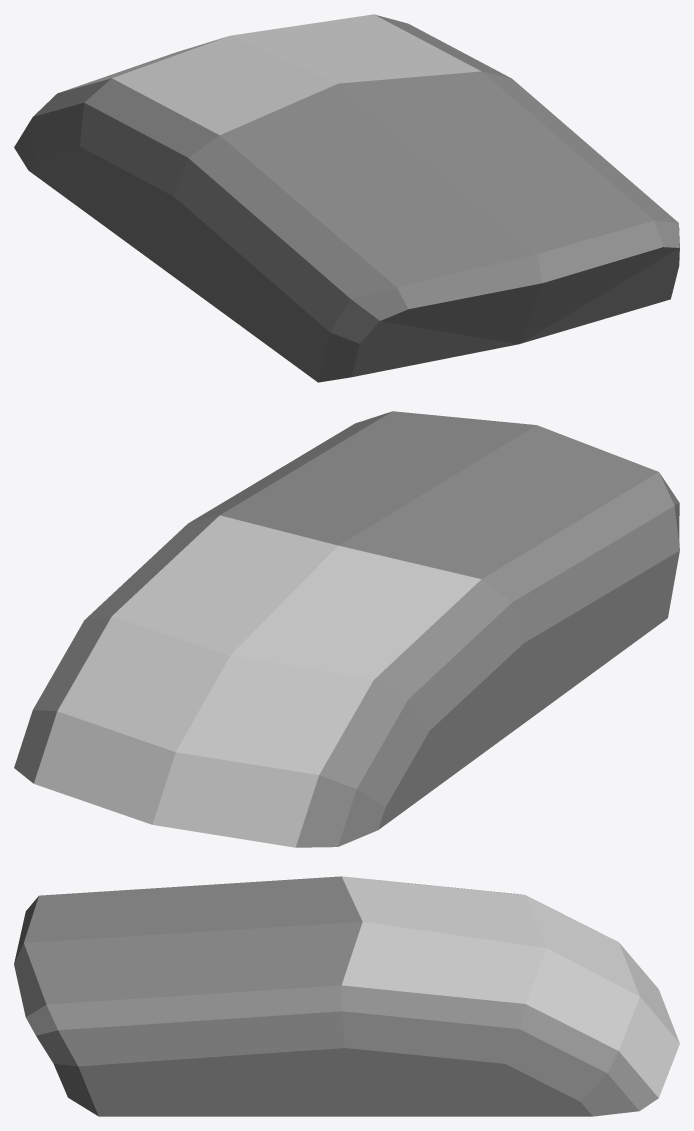
File: Mouse.fbx
3 views of the same model, one above another, from view 1: azimuth 30°, elevation 25°; view 2: azimuth 150°, elevation 25°; view 3: azimuth 270°, elevation 25° (orthographic). The views are drawn at different scales.
Parts seen in each view (by area): view 1: Mouse; view 2: Mouse; view 3: Mouse.
Part boxes in pixels (x1,y1,x2,y2): Mouse: (14, 14, 679, 382); Mouse: (14, 411, 679, 847); Mouse: (14, 876, 679, 1116).
Size of the model in its own units: 7.48 by 2.93 by 14.47.
